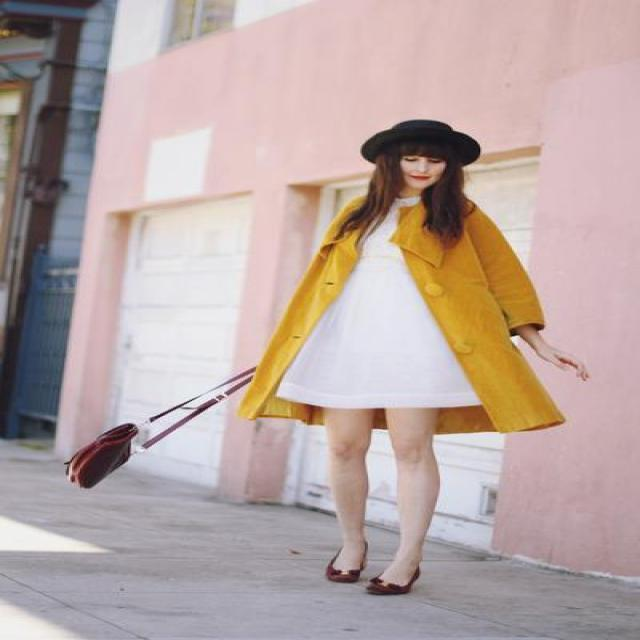bag: (64, 367, 254, 487)
dress: (277, 192, 478, 407)
hat: (365, 120, 478, 166)
jacket: (238, 200, 564, 433)
shoe: (327, 554, 418, 595)
